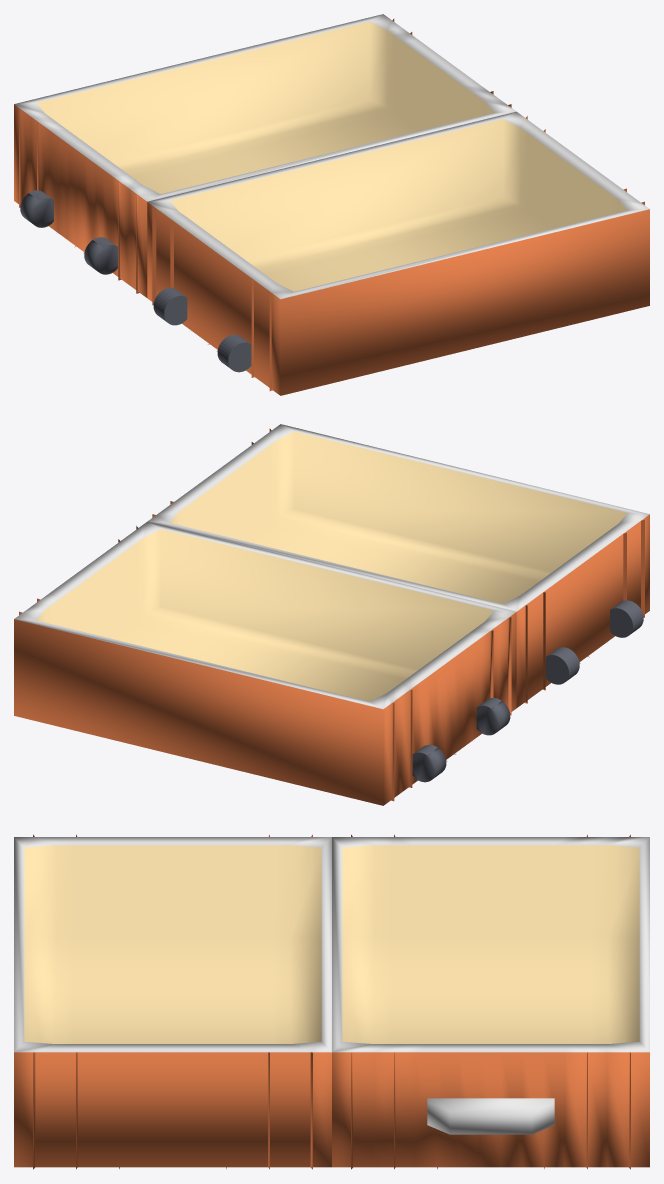
Rendered from val1Open.glb.
3 renders of one model, top to bottom at view 1: azimuth 30°, elevation 25°; view 2: azimuth 150°, elevation 25°; view 3: azimuth 270°, elevation 25°, orthographic. The views are drawn at different scales.
Visible parts, largest first — view 1: Cube.001, Cube.004; view 2: Cube.004, Cube.001; view 3: Cube.004, Cube.001.
Part boxes in pixels (bbox=[...]): Cube.001: bbox=[147, 111, 649, 395]; Cube.004: bbox=[14, 14, 516, 297]; Cube.004: bbox=[14, 521, 516, 805]; Cube.001: bbox=[147, 424, 649, 707]; Cube.004: bbox=[332, 834, 649, 1169]; Cube.001: bbox=[14, 834, 331, 1169].
Size of the model in its own units: 0.45 by 0.1016 by 0.5.
